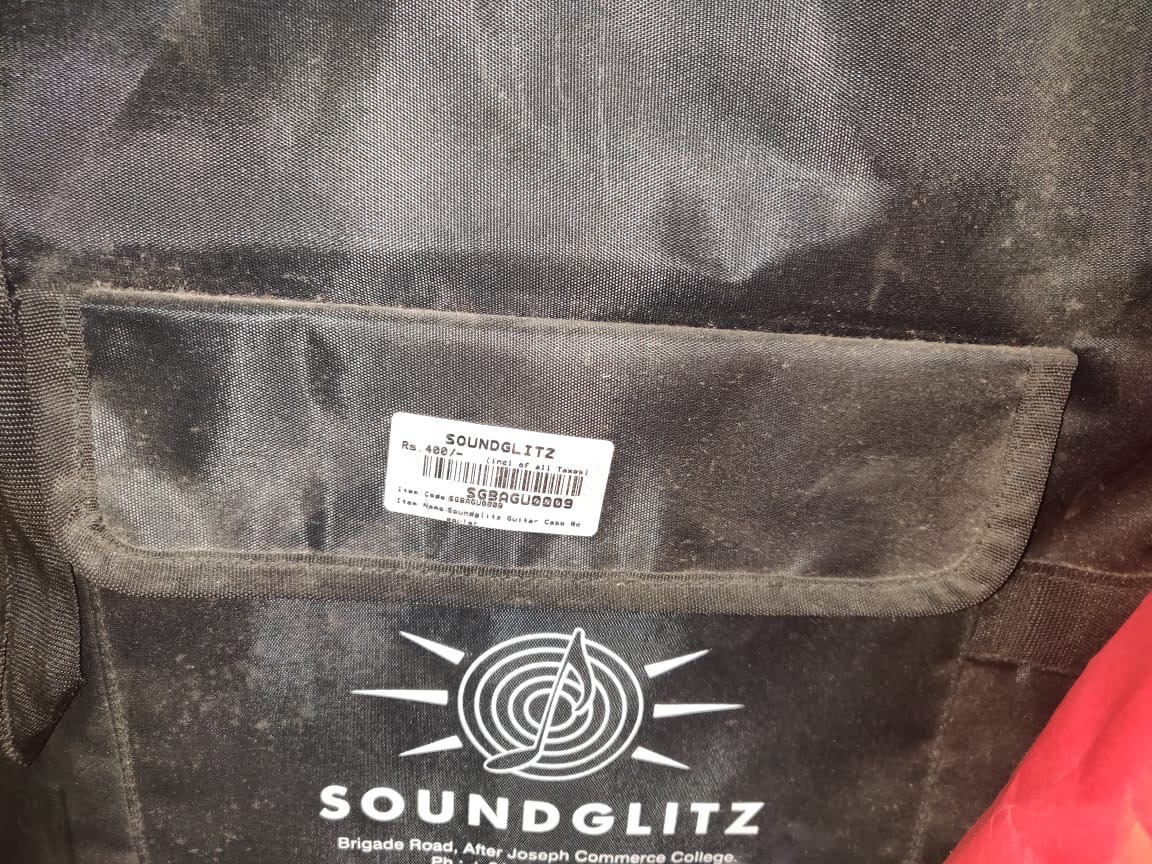barcode: (411, 454, 591, 506)
